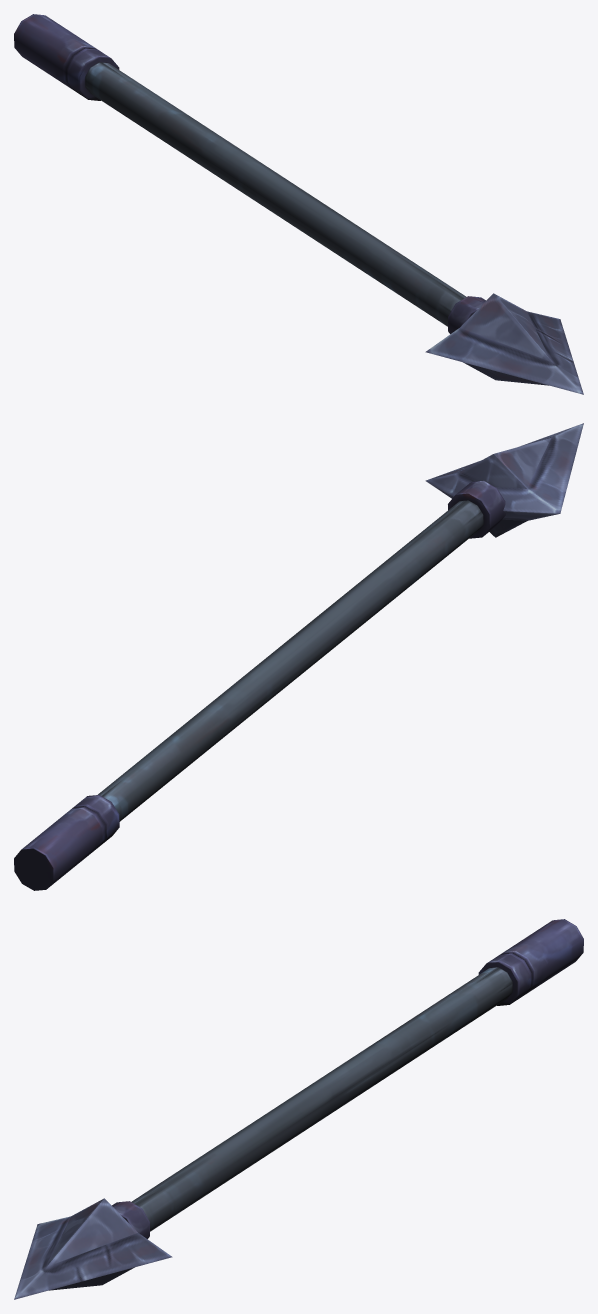
The model's file is balista_spear_01.fbx.
The picture shows the model from 3 angles, top to bottom: view 1: azimuth 30°, elevation 25°; view 2: azimuth 150°, elevation 25°; view 3: azimuth 330°, elevation 25°; orthographic projection.
Parts seen in each view (by area): view 1: balista_spear_01; view 2: balista_spear_01; view 3: balista_spear_01.
Part boxes in pixels (box(x1,y1,x2,y2)): balista_spear_01: box(14, 14, 583, 394); balista_spear_01: box(14, 423, 583, 890); balista_spear_01: box(14, 919, 583, 1299).
Size of the model in its own units: 0.5179 by 0.3691 by 3.65.
